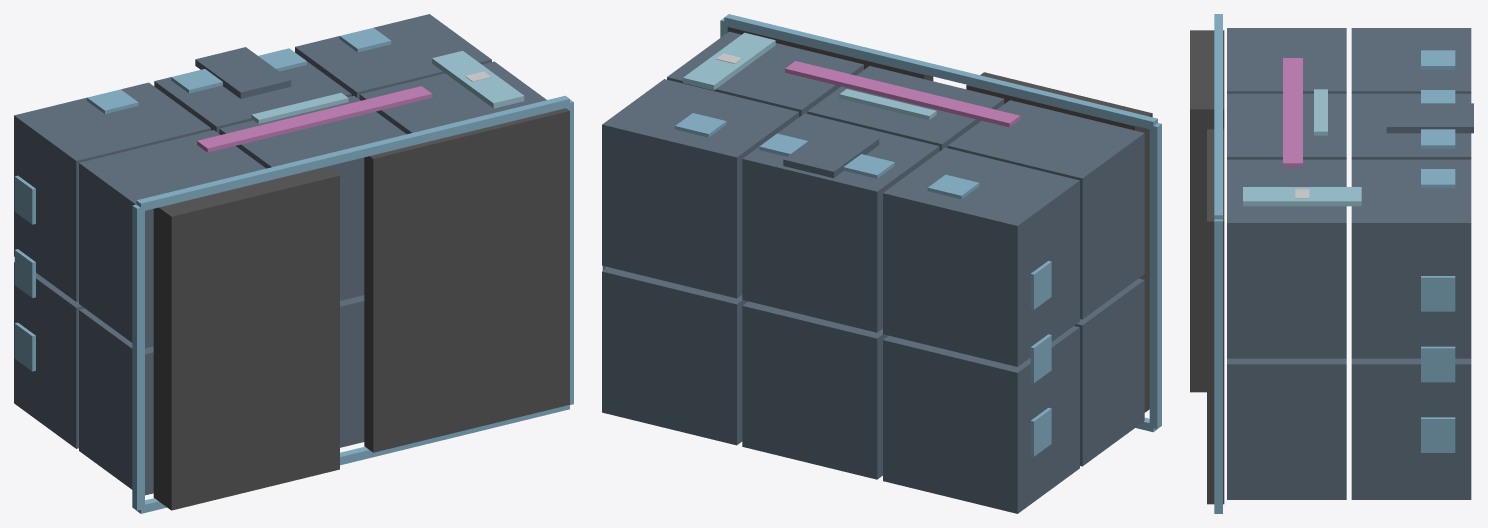
The model's file is building-internet-cafe.glb.
The picture shows the model from 3 angles, left to right: view 1: azimuth 30°, elevation 25°; view 2: azimuth 150°, elevation 25°; view 3: azimuth 270°, elevation 25°; orthographic projection. The views are drawn at different scales.
Visible parts, largest first — view 1: world; view 2: world; view 3: world.
Boxes of the visible parts, <box> form: world: <box>14,14,573,513</box>; world: <box>602,14,1161,513</box>; world: <box>1190,14,1473,513</box>.
Size of the model in its own units: 15.56 by 10.71 by 9.1.
